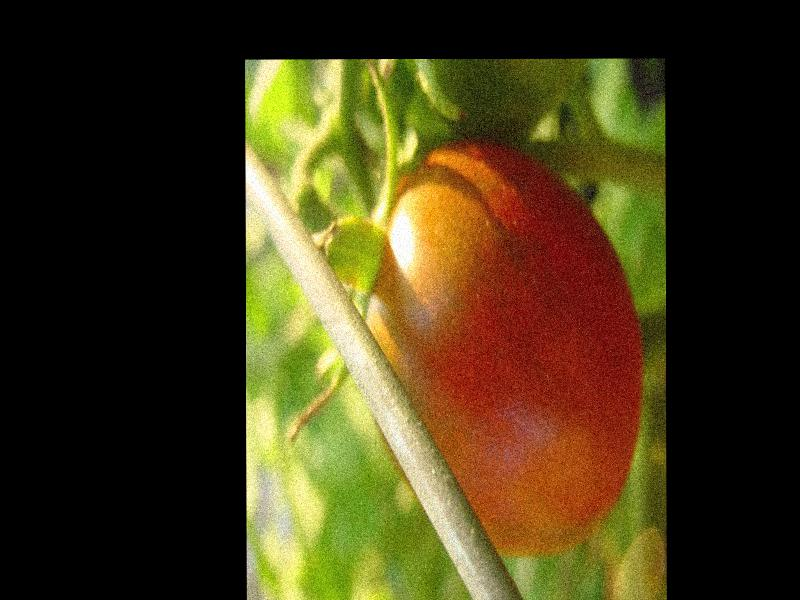Tomato: (366, 145, 642, 549)
